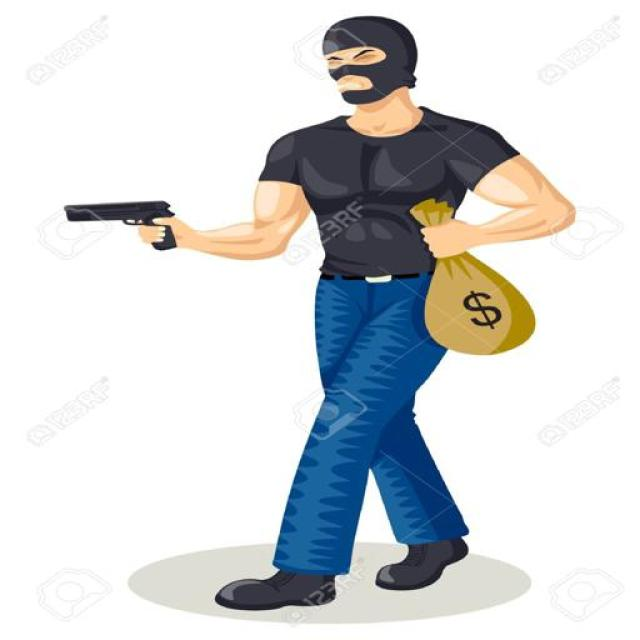pistol: (61, 199, 180, 251)
